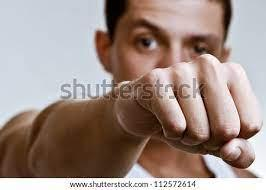Oncoming-Punch: (109, 51, 262, 171)
